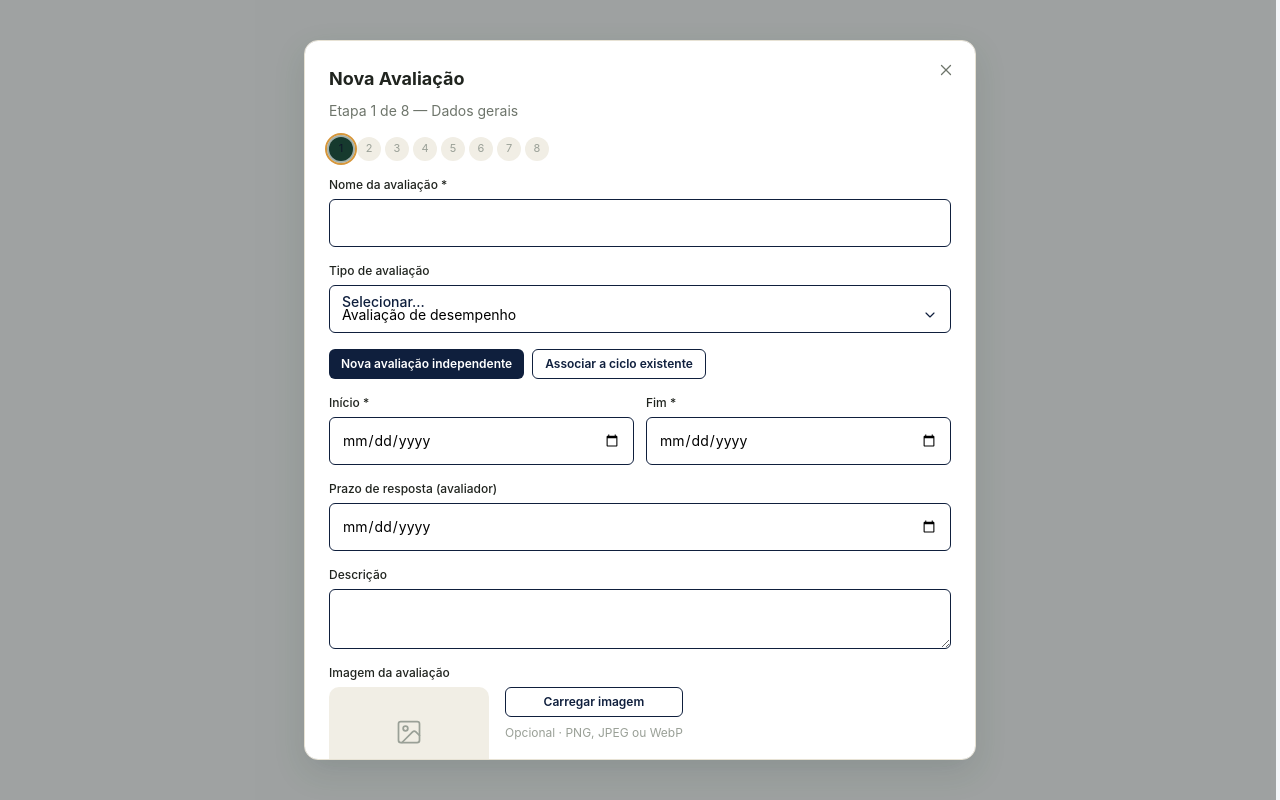
Test: NewEvaluationWizard › avançar para etapa 2 muda o título e mostra "Voltar"
Type "Avaliação X" into the field labelled "Nome da avaliação *" at (640,223), box [329,199,951,247]
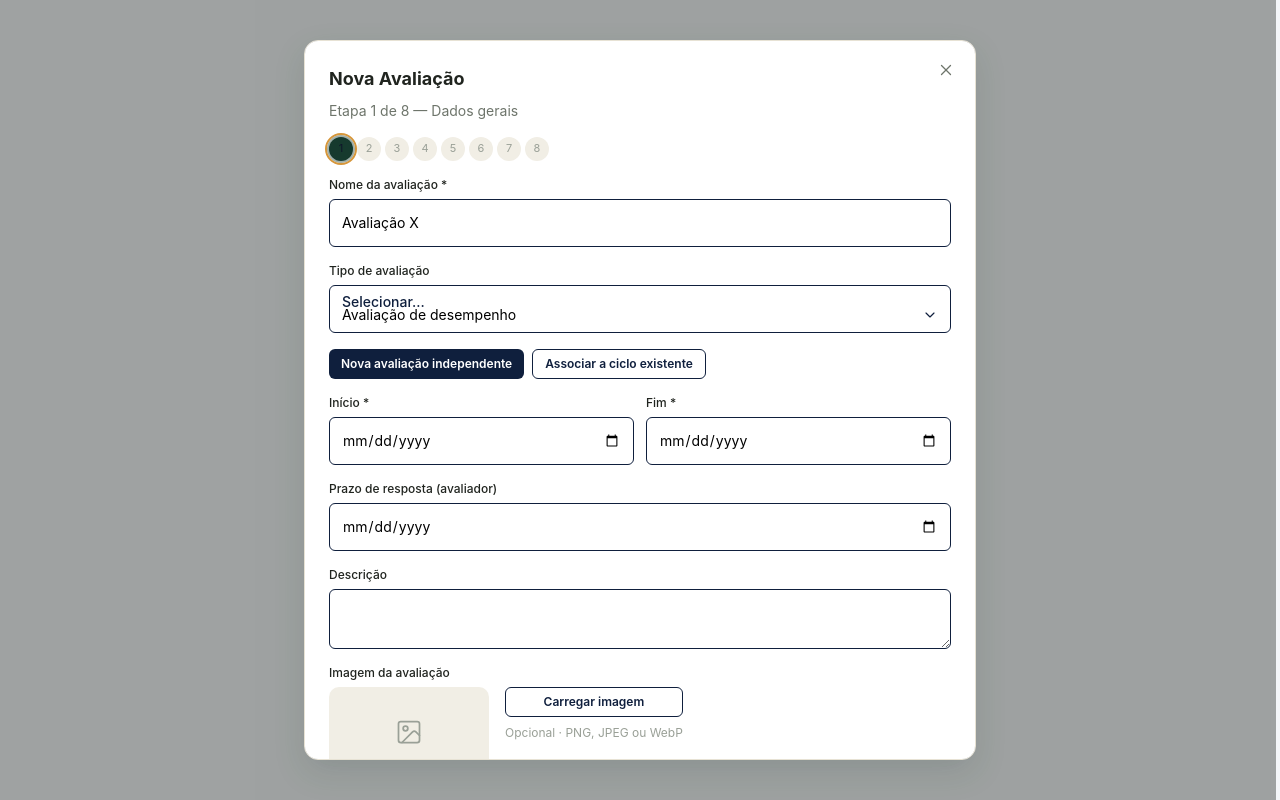
Type "2026-01-01" into the date field labelled "Início *" at (482,441), box [329,417,634,465]
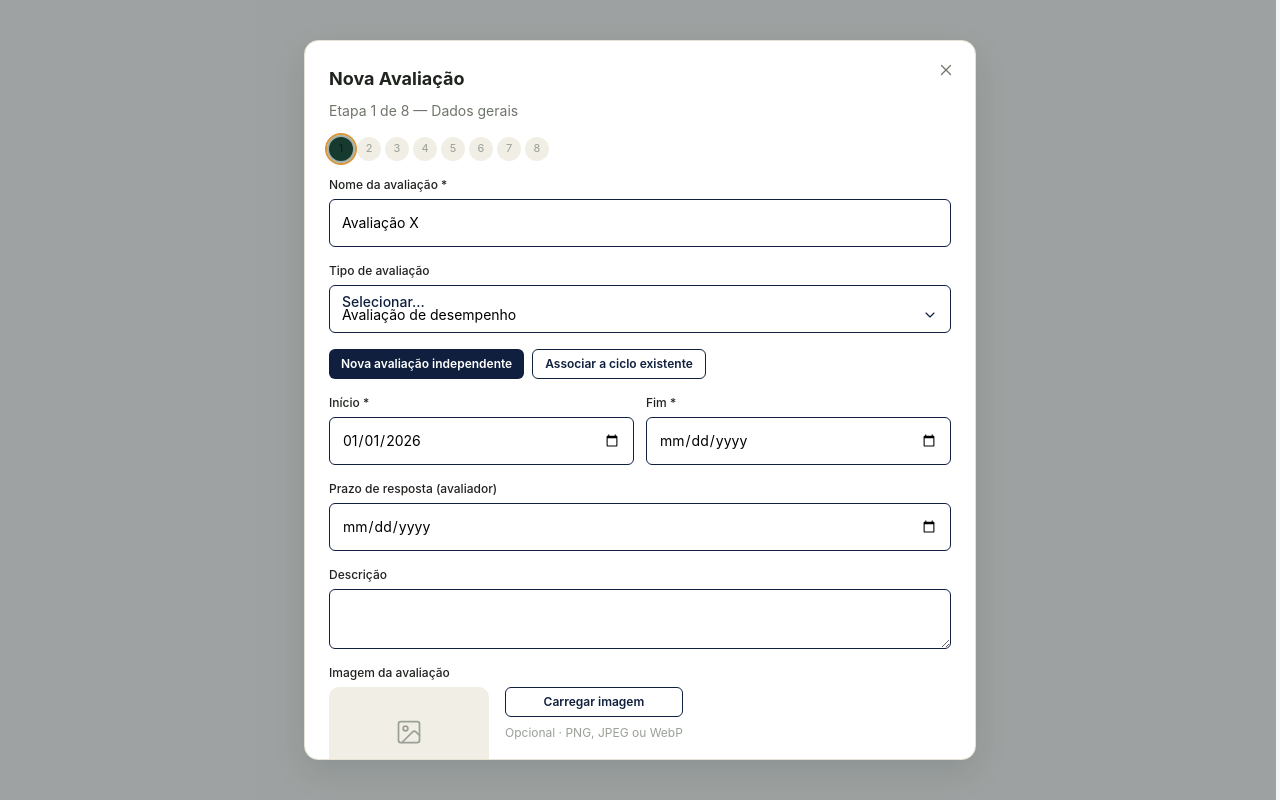
Type "2026-12-31" into the date field labelled "Fim *" at (798,441), box [646,417,951,465]
(page scrolled)
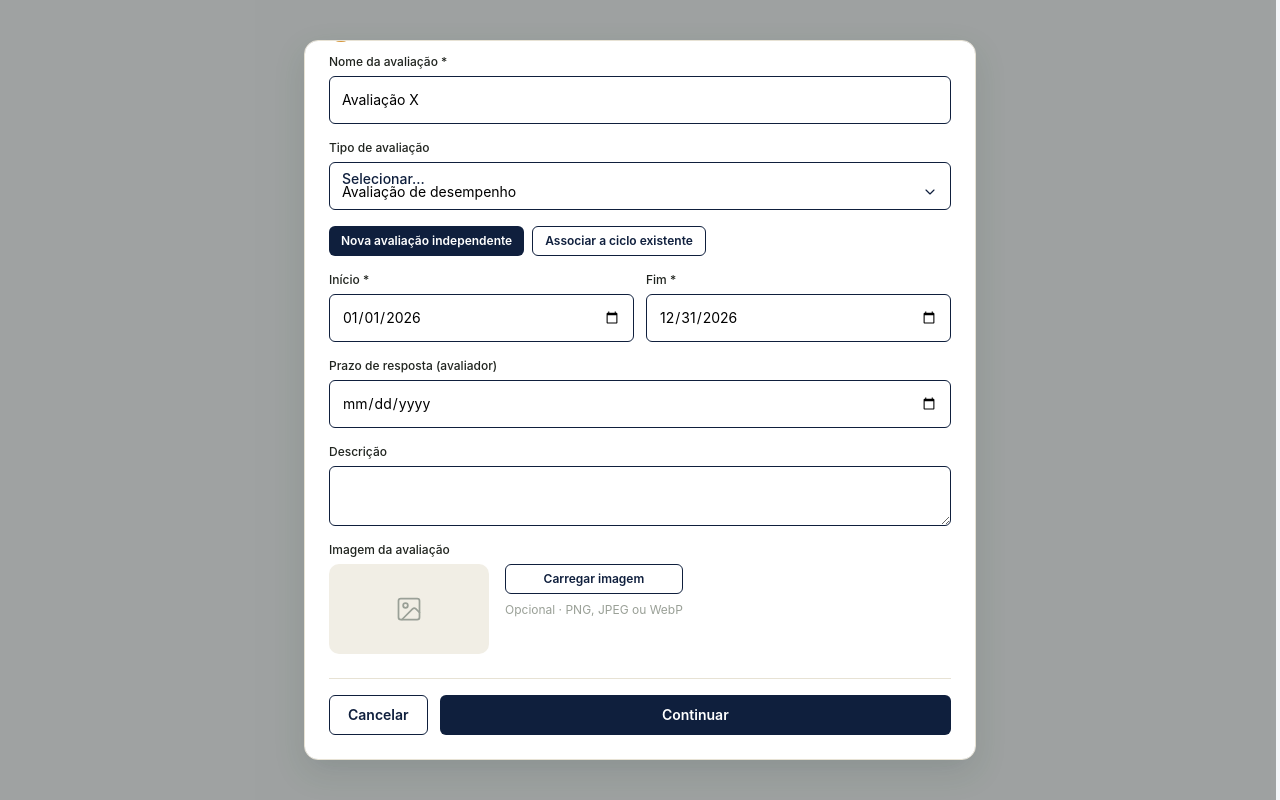
Click the button "Continuar" at (695,715), box [440,695,951,735]
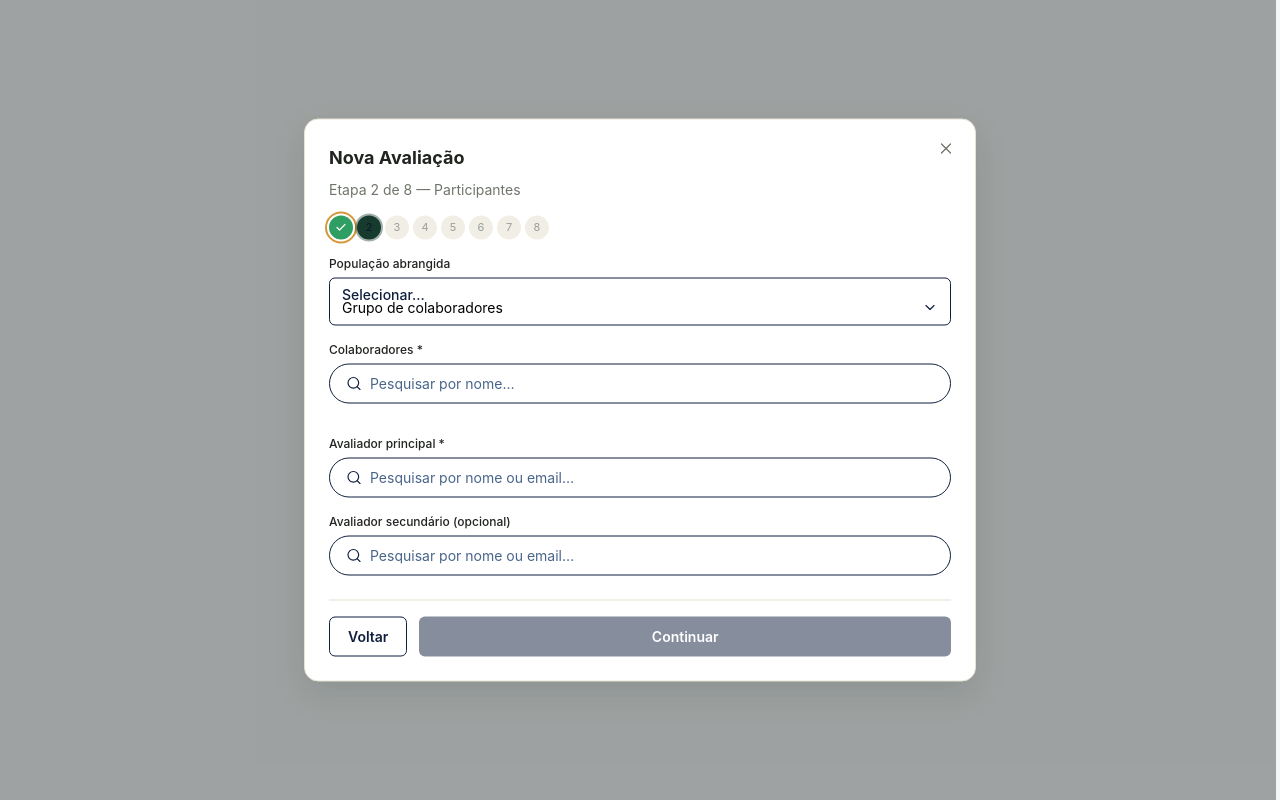
Now the text "Etapa 2 de 8 — Participantes" is shown, box [329,180,521,198]
Now the button "Voltar" is shown, box [329,616,407,656]
